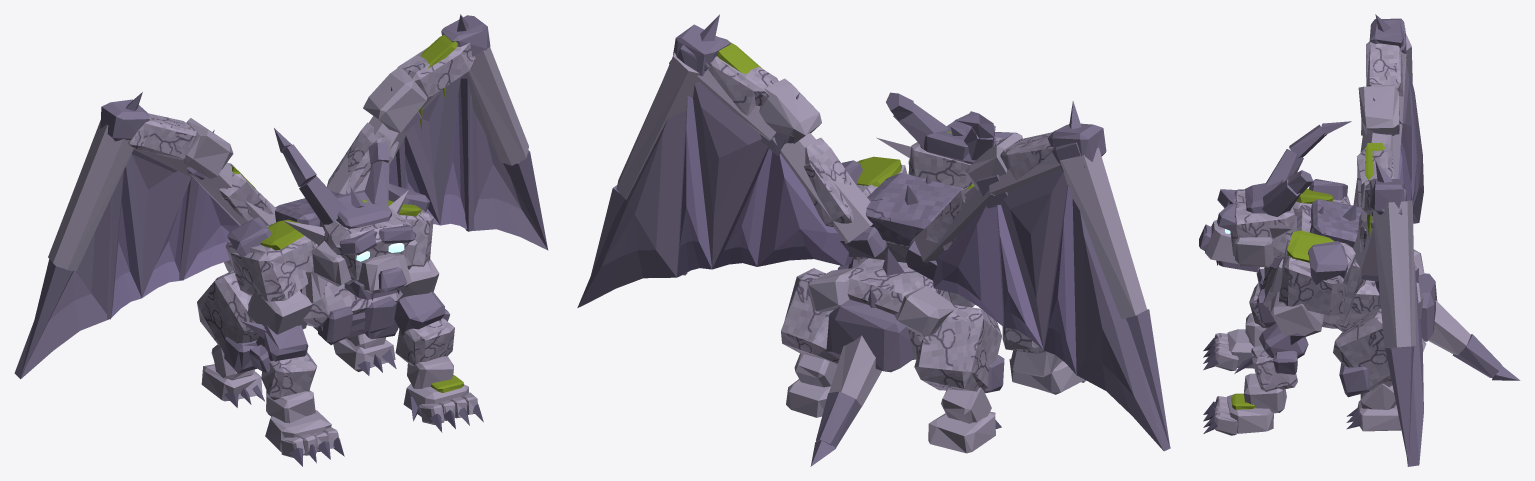
Rendered from gargoyle_static.fbx.
3 renders of one model, left to right at view 1: azimuth 30°, elevation 25°; view 2: azimuth 150°, elevation 25°; view 3: azimuth 270°, elevation 25°, orthographic. The views are drawn at different scales.
Visible parts, largest first — view 1: Gargoyle_Static; view 2: Gargoyle_Static; view 3: Gargoyle_Static.
Boxes of the visible parts, box(x1,y1,x2,y2) form: Gargoyle_Static: box(14, 14, 548, 466); Gargoyle_Static: box(577, 14, 1170, 466); Gargoyle_Static: box(1199, 14, 1520, 466).
Size of the model in its own units: 1380 by 816 by 774.
2 materials, 1 textured.
